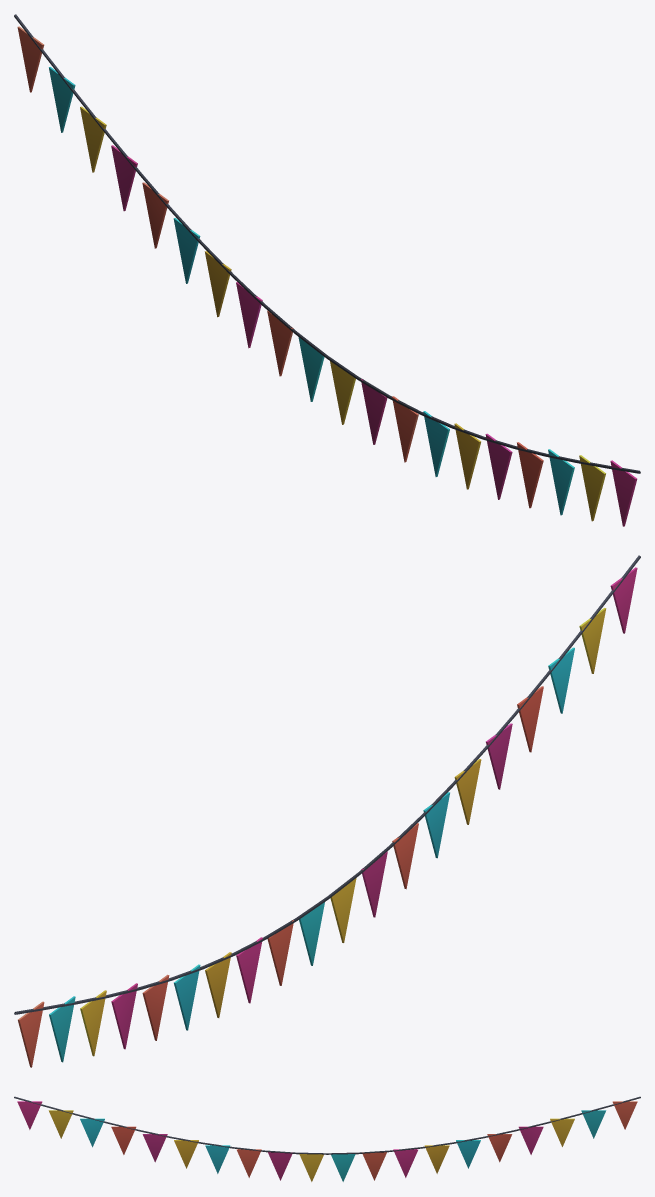
The model's file is SM_Dealer_Bunting.fbx.
3 views of the same model, one above another, from view 1: azimuth 30°, elevation 25°; view 2: azimuth 150°, elevation 25°; view 3: azimuth 270°, elevation 25° (orthographic). The views are drawn at different scales.
Parts seen in each view (by area): view 1: SM_Dealer_Bunting; view 2: SM_Dealer_Bunting; view 3: SM_Dealer_Bunting.
Part boxes in pixels (x1,y1,x2,y2): SM_Dealer_Bunting: (14,14,640,526); SM_Dealer_Bunting: (14,555,640,1067); SM_Dealer_Bunting: (14,1096,640,1181).
Bounding box in the file's own units: 1.48 × 90.6 × 600.
